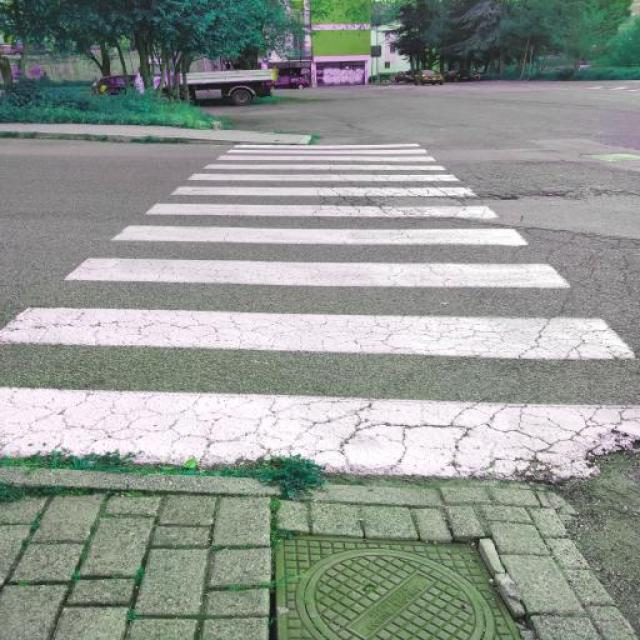crosswalk: (3, 142, 640, 486)
